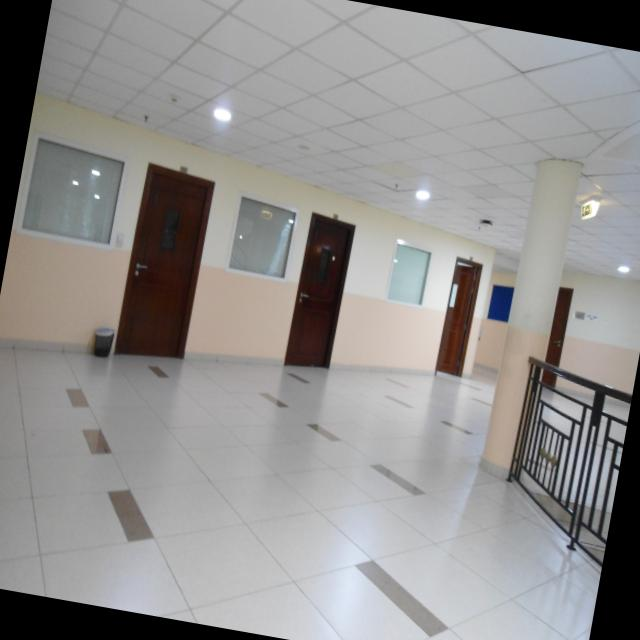door: (114, 163, 215, 358), (283, 212, 354, 367)
path: (0, 347, 601, 640)
railing: (508, 357, 632, 566)
